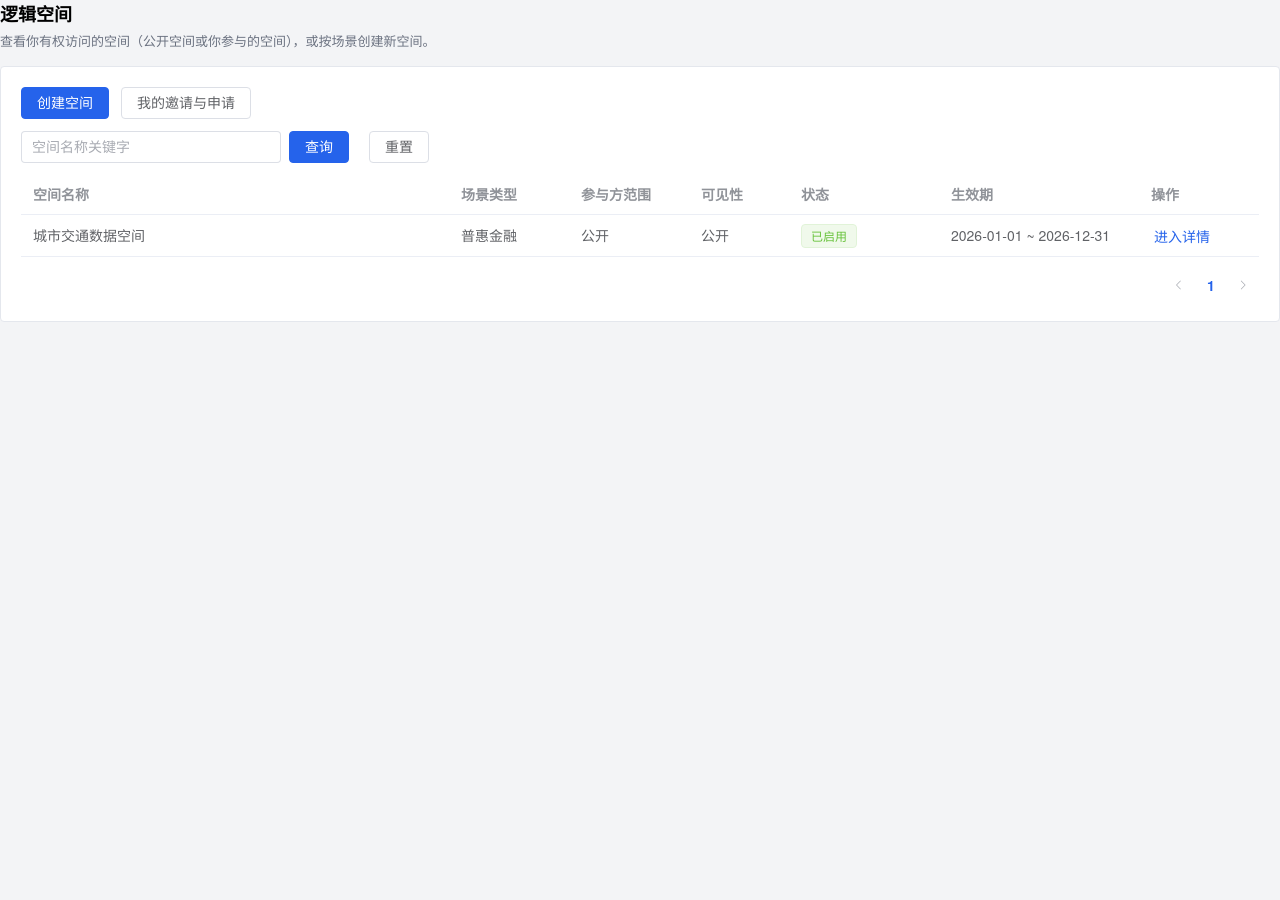
Test case: 创建空间（T7~T9） › 创建成功：提交契约字段并刷新列表（新空间状态 = 已创建（未启用））
The image size is (1280, 900).
Click the button with class "create-btn".
click(65, 103)  # box left=21, top=87, right=109, bottom=119
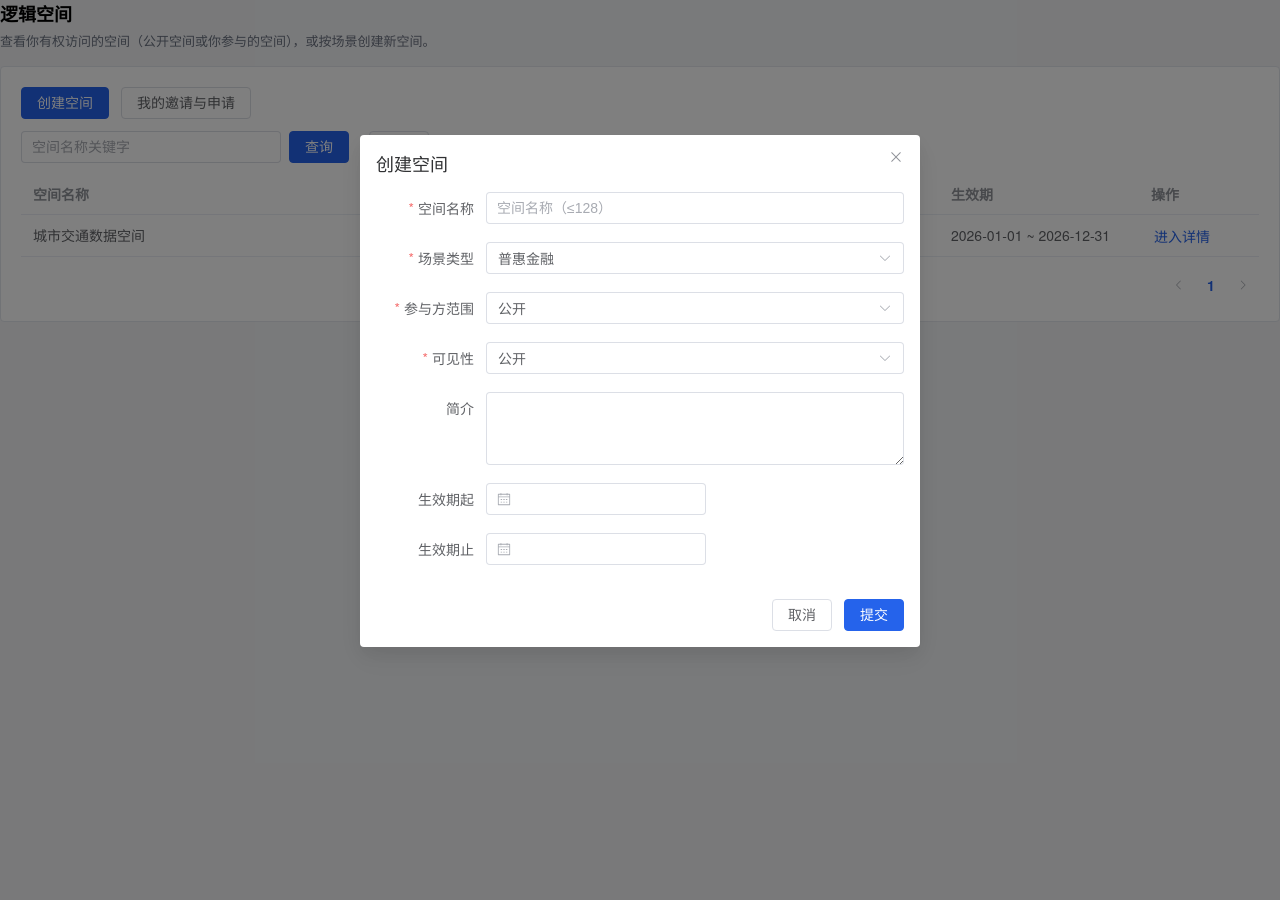
Type "新场景空间" into the field labelled "空间名称".
click(695, 208); type("新场景空间")  # box left=497, top=193, right=893, bottom=223
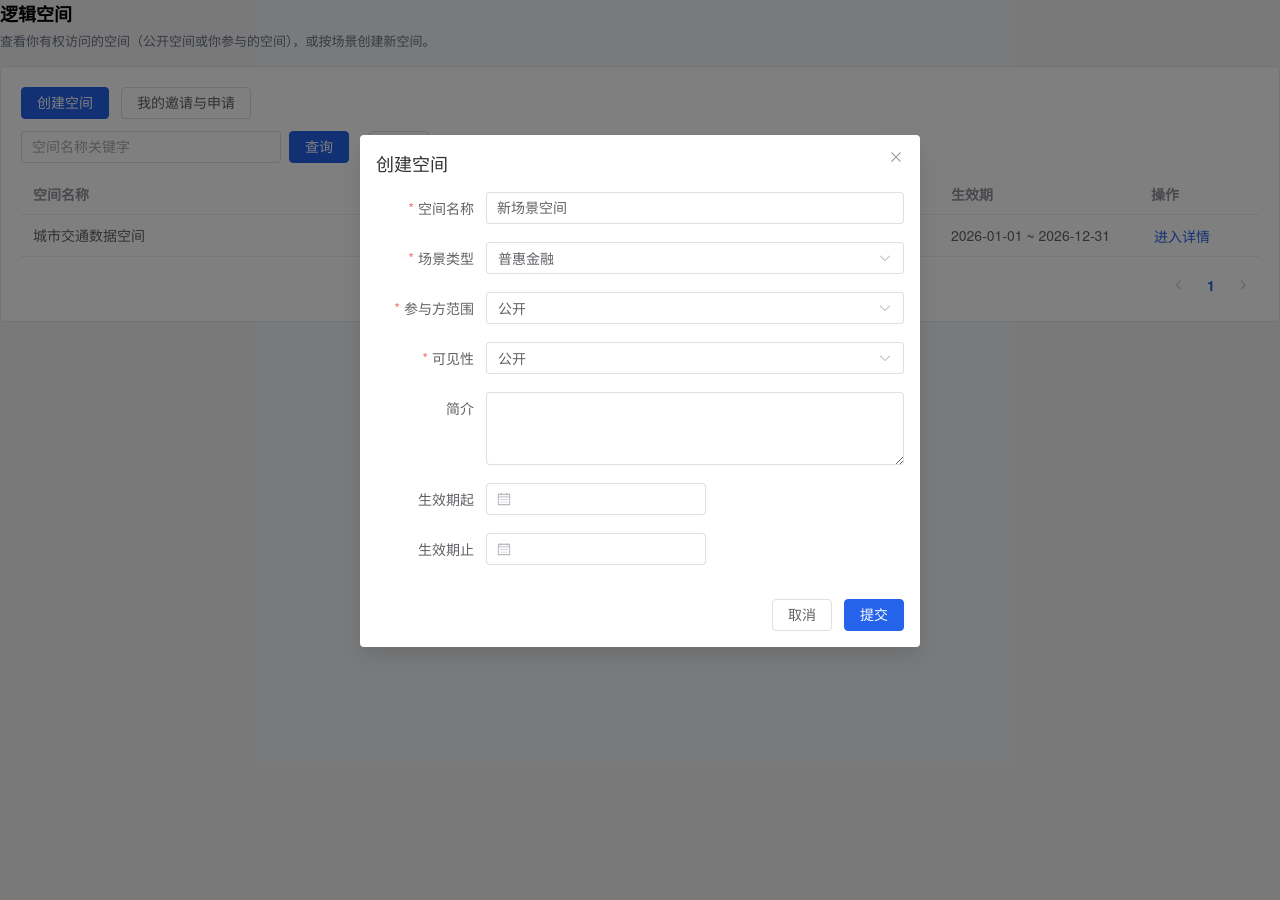
Click the button with class "create-submit".
click(874, 615)  # box left=844, top=599, right=904, bottom=631
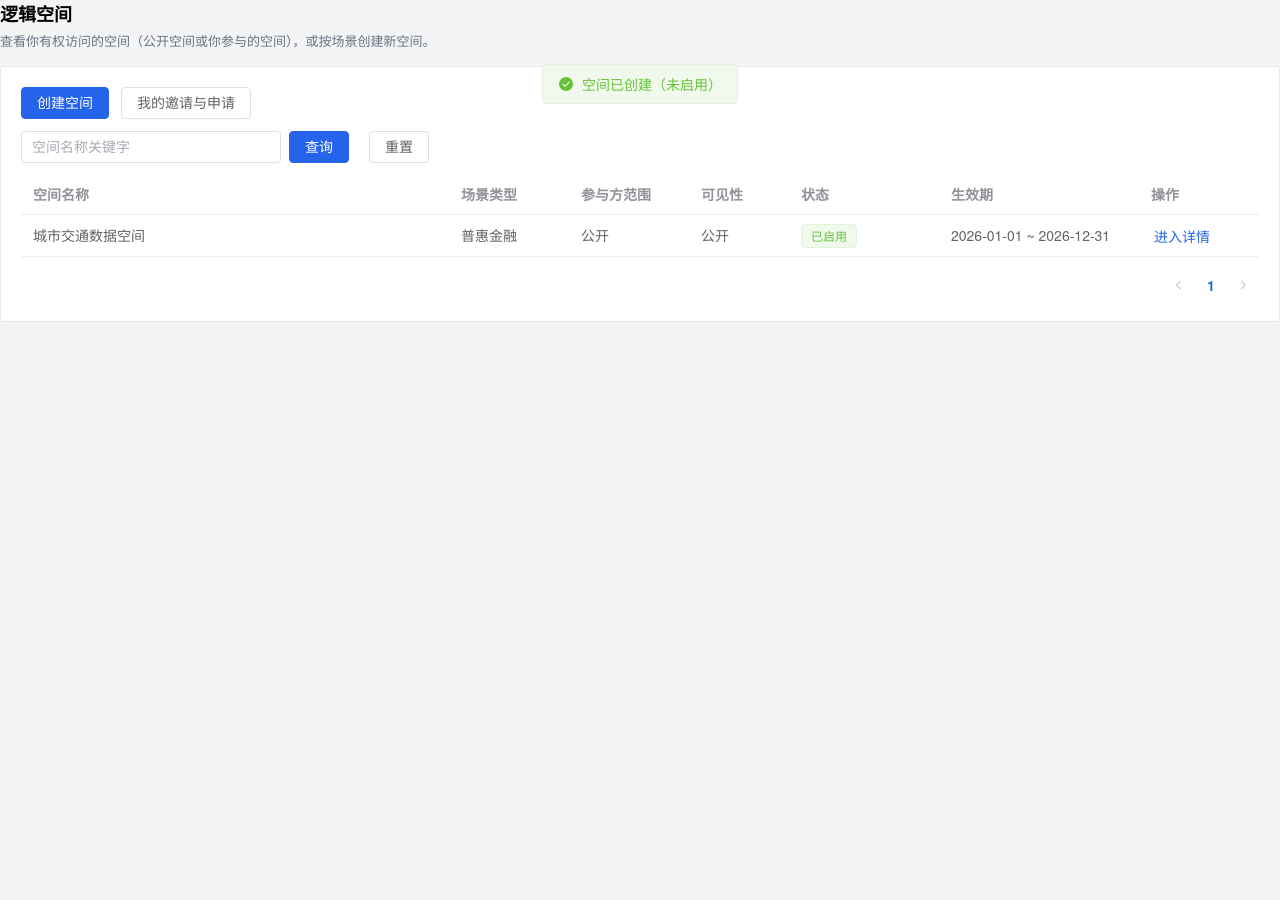
Click the button with class "search-btn".
click(319, 147)  # box left=289, top=131, right=349, bottom=163
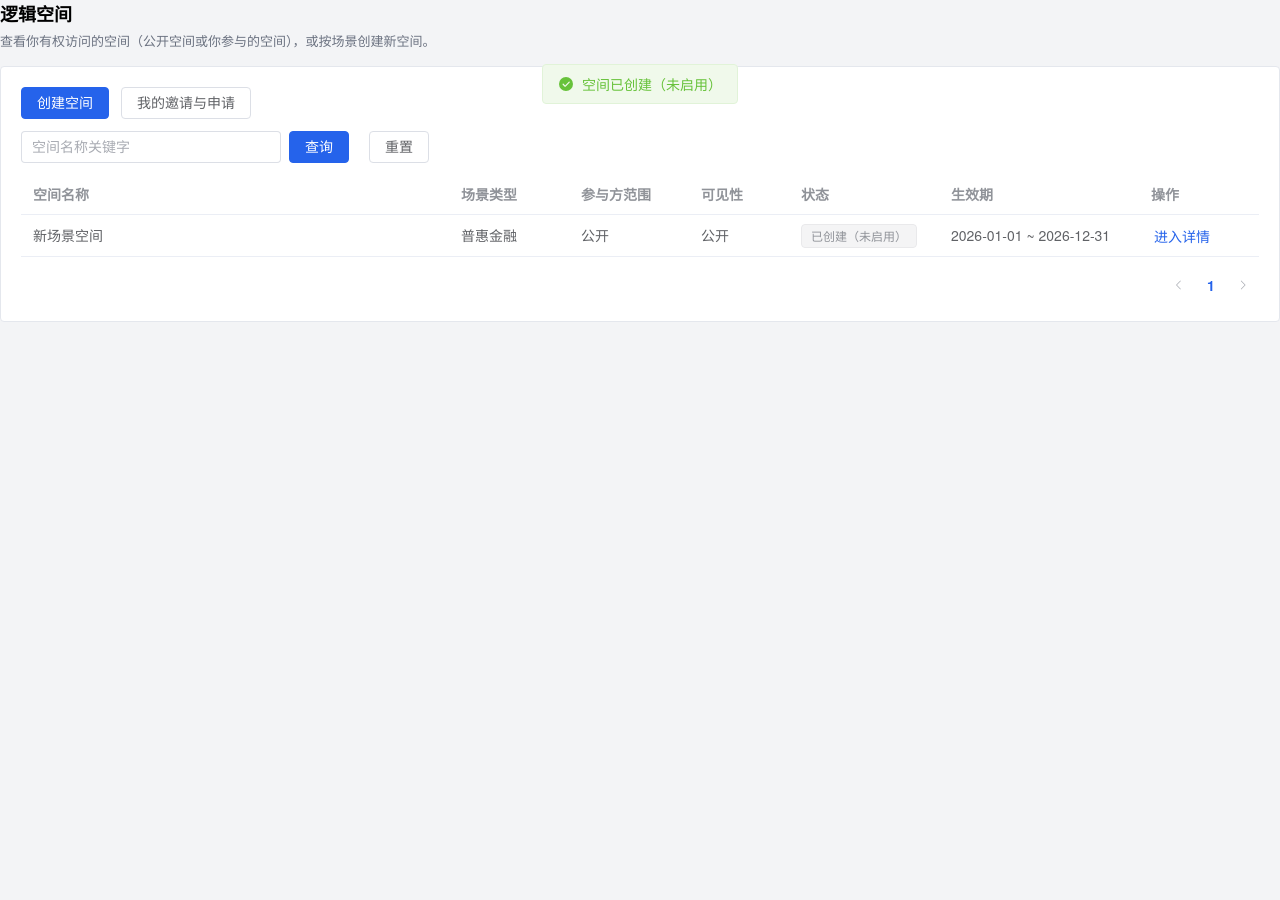
expect the text "已创建（未启用）" is shown: met, box left=811, top=230, right=907, bottom=242
expect the text "新场景空间" is shown: met, box left=33, top=225, right=103, bottom=245
